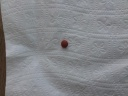Dolorex: (60, 39, 69, 48)
